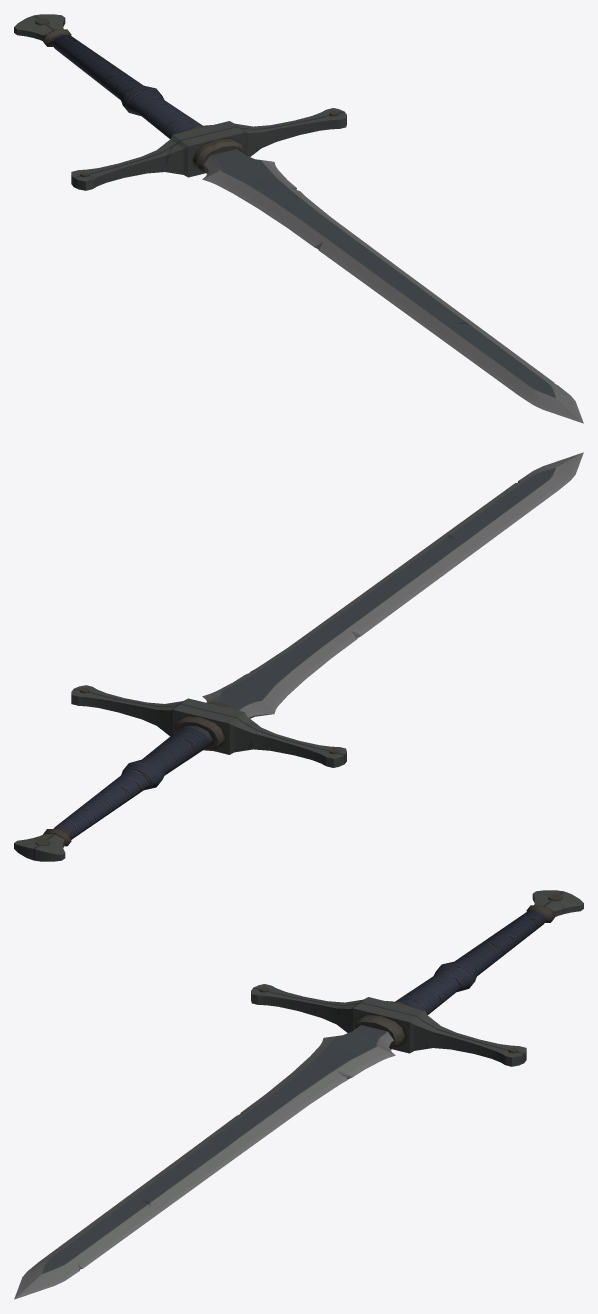
File: Weapon_Lsword_002.glb
3 views of the same model, one above another, from view 1: azimuth 30°, elevation 25°; view 2: azimuth 150°, elevation 25°; view 3: azimuth 330°, elevation 25° (orthographic).
Visible parts, largest first — view 1: Weapon_Lsword_002; view 2: Weapon_Lsword_002; view 3: Weapon_Lsword_002.
Part boxes in pixels (left/top/right/bottom): Weapon_Lsword_002: left=14, top=14, right=583, bottom=423; Weapon_Lsword_002: left=14, top=452, right=583, bottom=861; Weapon_Lsword_002: left=14, top=890, right=583, bottom=1299.
Bounding box in the file's own units: 0.563 × 0.0624 × 1.98.
1 material, 1 textured.
